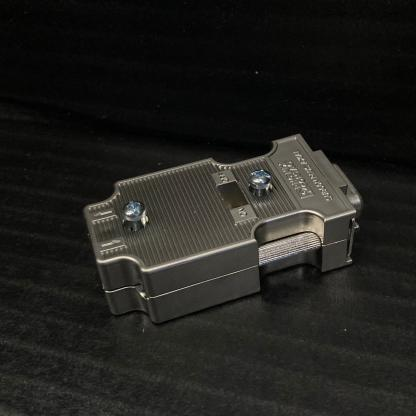SP0000010: (60, 111, 384, 345)
